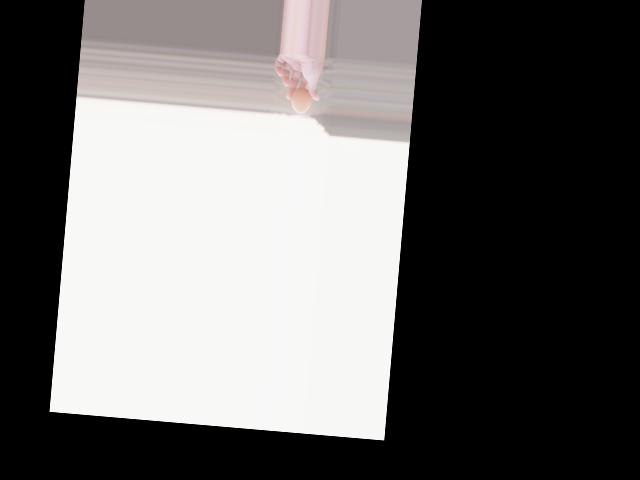egg: (289, 87, 312, 114)
